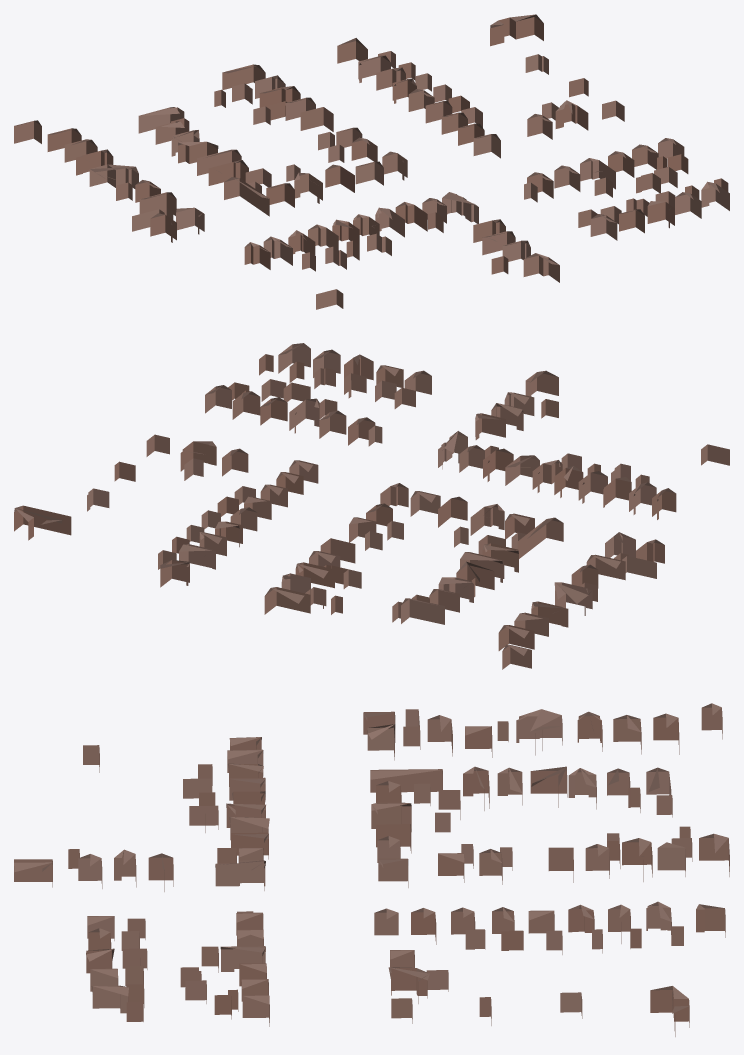
Rendered from c_1643_17828_buildings_residential.glb.
3 views of the same model, one above another, from view 1: azimuth 30°, elevation 25°; view 2: azimuth 150°, elevation 25°; view 3: azimuth 270°, elevation 25° (orthographic). The views are drawn at different scales.
Parts seen in each view (by area): view 1: geometry_0; view 2: geometry_0; view 3: geometry_0.
Part boxes in pixels (bbox=[...]): geometry_0: bbox=[14, 14, 729, 309]; geometry_0: bbox=[14, 343, 729, 669]; geometry_0: bbox=[14, 703, 729, 1036].
Size of the model in its own units: 272 by 10.94 by 264.
